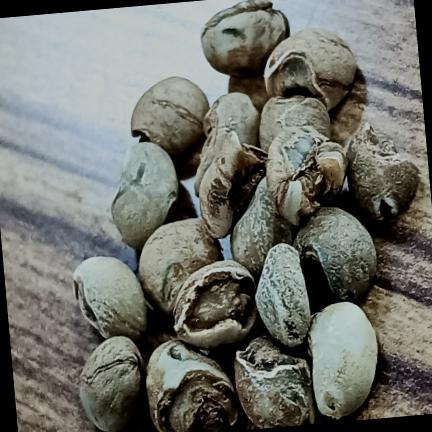cut: (146, 339, 240, 432), (139, 218, 223, 317), (308, 302, 378, 419), (266, 127, 347, 226), (264, 28, 357, 111), (294, 207, 377, 300), (235, 336, 317, 429), (174, 260, 257, 349), (111, 142, 178, 251), (199, 132, 267, 239), (347, 123, 419, 220), (201, 0, 290, 78), (195, 92, 261, 196), (230, 177, 296, 281), (73, 256, 147, 343), (131, 77, 209, 157), (80, 336, 145, 432), (255, 243, 311, 347), (259, 95, 331, 152)
